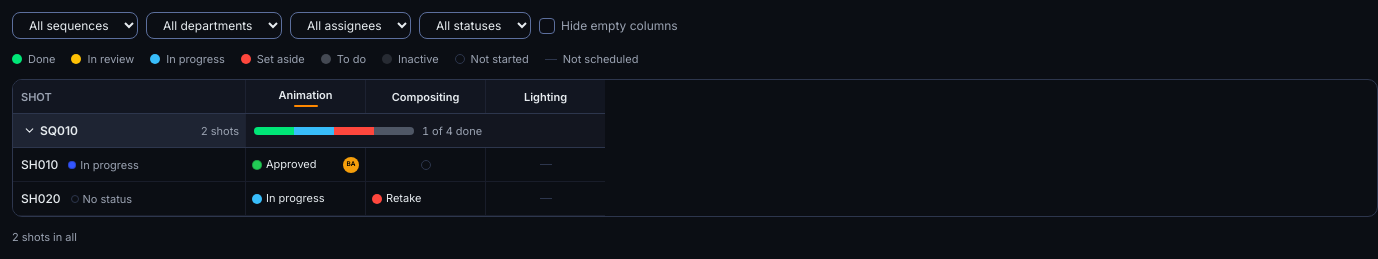
Test: ProductionGrid › collapses a sequence onto its aggregate, and renders its shots when expanded
Click the button "SQ010" at {"x": 50, "y": 130}, box [19, 120, 82, 140]
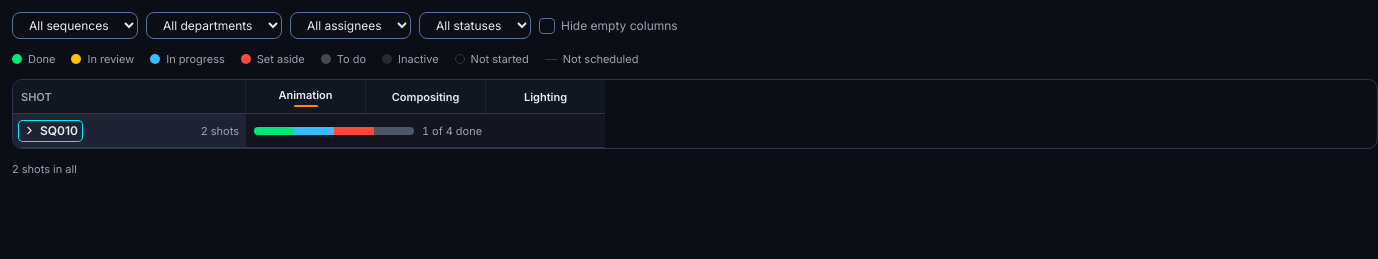
Result: the button "SQ010" is collapsed
Result: the link "SH010" is gone
Click the button "SQ010" at {"x": 50, "y": 130}, box [19, 120, 82, 140]
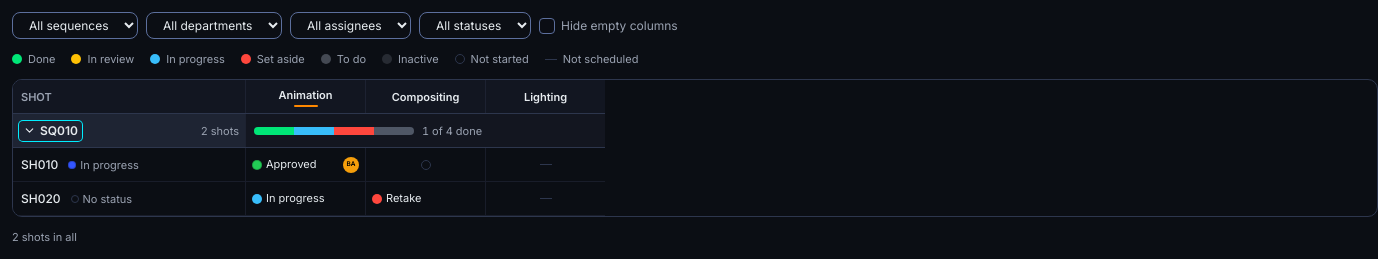
Result: the link "SH010" is shown at [21, 156, 58, 172]
